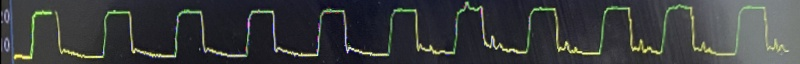hydrop_pressure: (417, 0, 800, 64)
normal_pressure: (20, 3, 415, 64)
